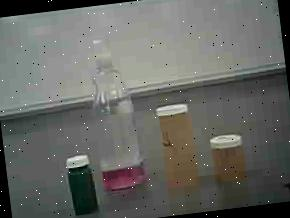Bottle A: (154, 101, 204, 192)
Bottle B: (207, 130, 249, 186)
Bottle C: (61, 152, 103, 216)
hazard: (82, 20, 152, 194)
